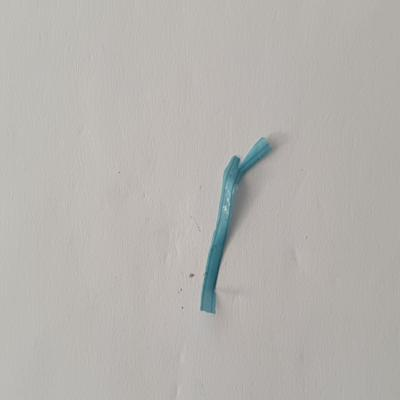thread: (192, 132, 279, 320)
